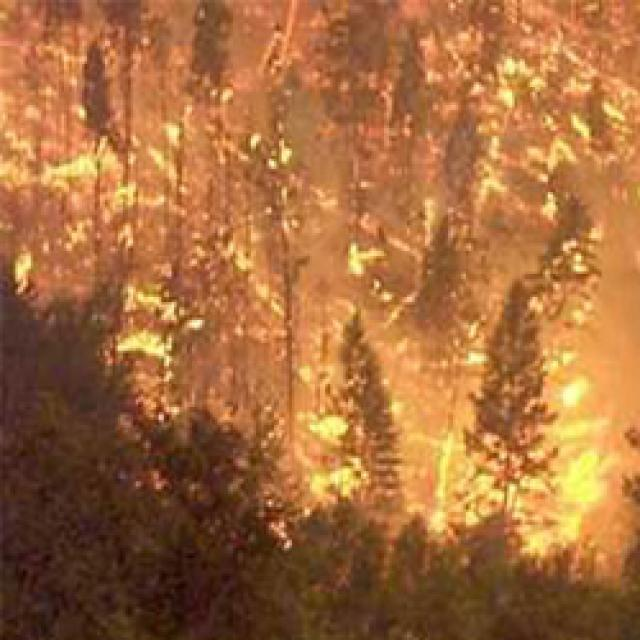Fire: (269, 0, 640, 323), (0, 7, 224, 444), (202, 157, 423, 552), (483, 271, 640, 569)
Smoke: (0, 0, 640, 231), (459, 210, 640, 627)
